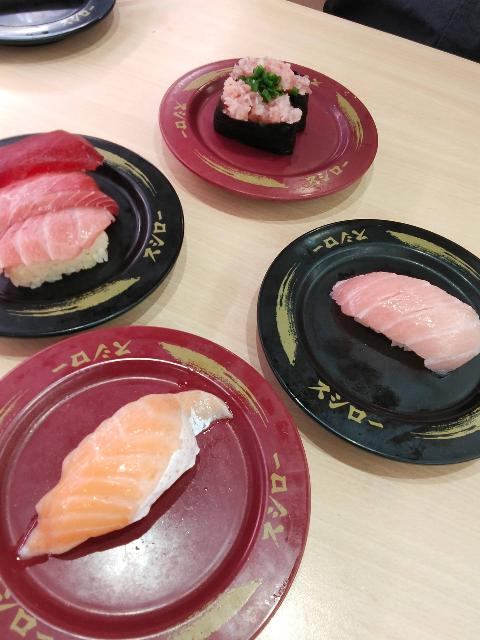janback: (220, 178, 480, 464), (15, 119, 185, 295), (0, 3, 111, 44)
janred: (25, 329, 315, 626), (95, 28, 383, 200)
